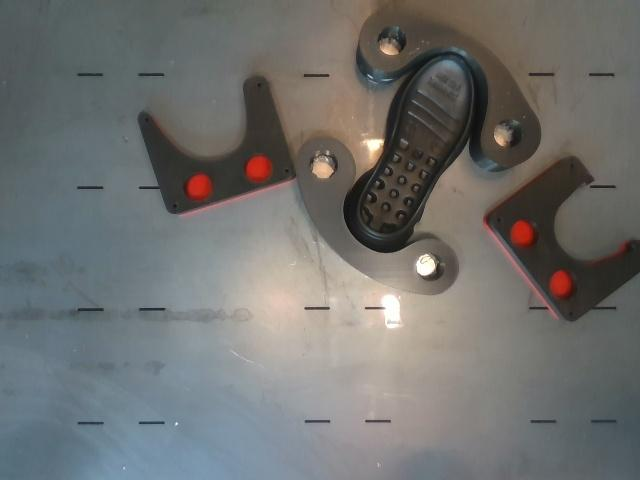shoes: (359, 55, 473, 234)
